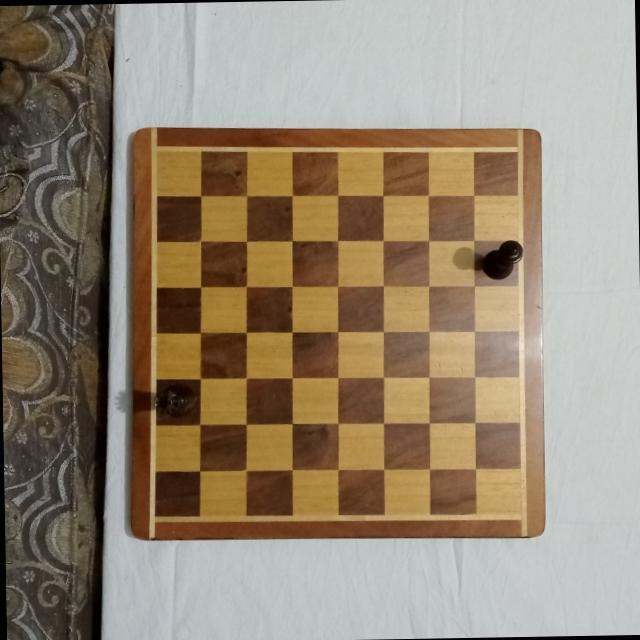black-king: (479, 239, 524, 280)
black-queen: (150, 382, 197, 418)
